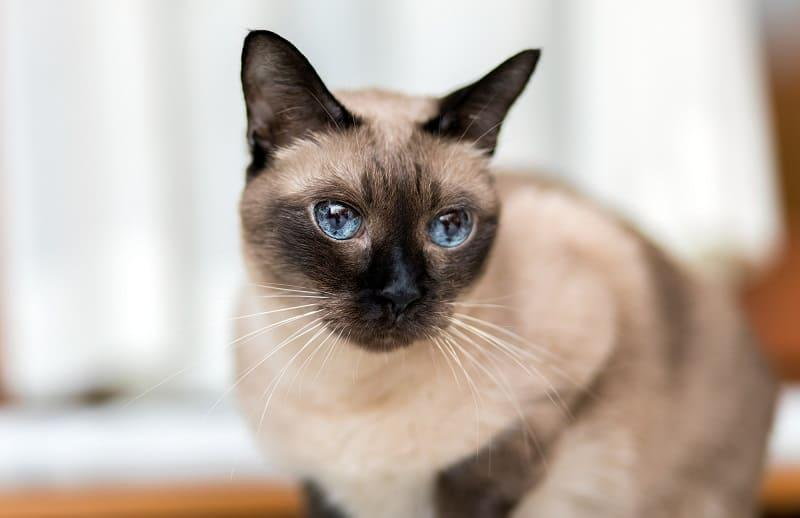siamese: (229, 19, 549, 366)
